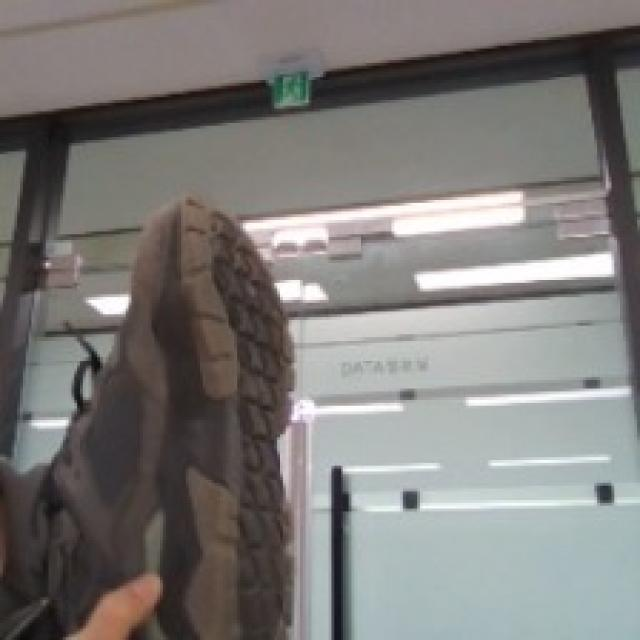shoes: (26, 194, 303, 640)
